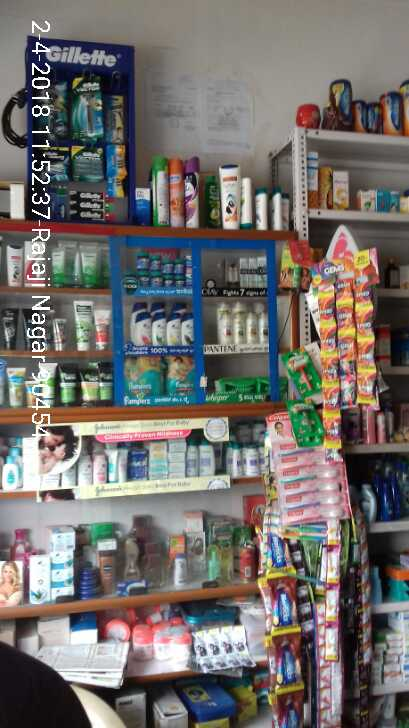vicks: (136, 251, 193, 287)
